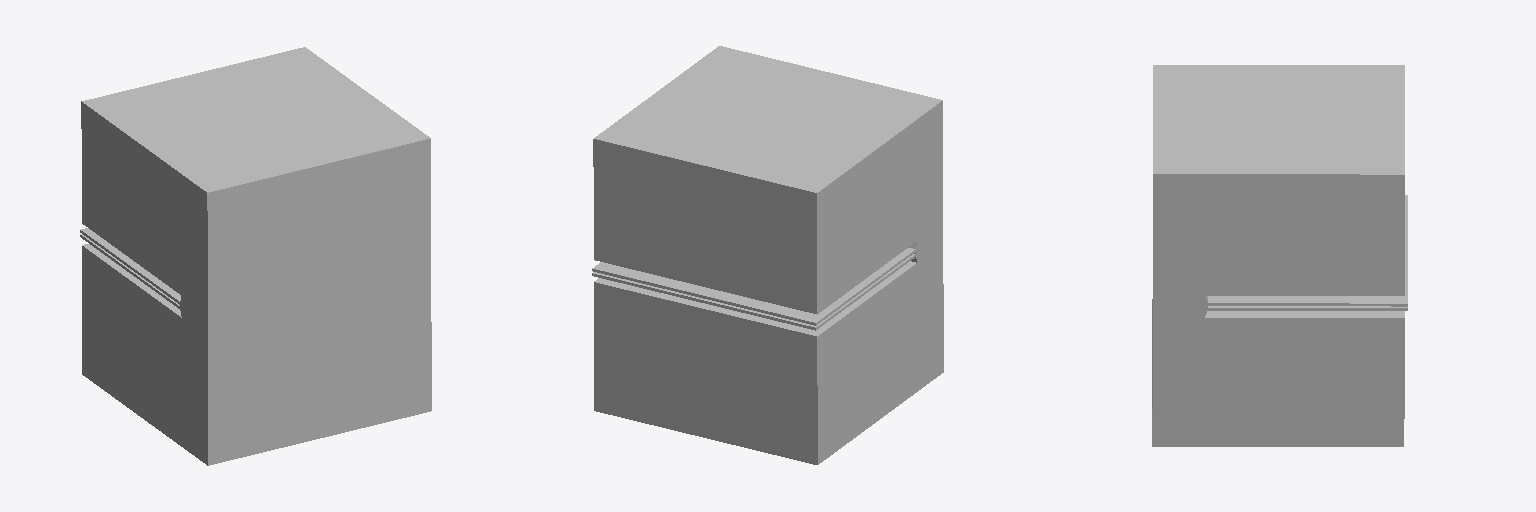
File: book.obj
3 views of the same model, side by side, from view 1: azimuth 30°, elevation 25°; view 2: azimuth 150°, elevation 25°; view 3: azimuth 270°, elevation 25° (orthographic).
Size of the model in its own units: 2.09 by 2.44 by 2.07.